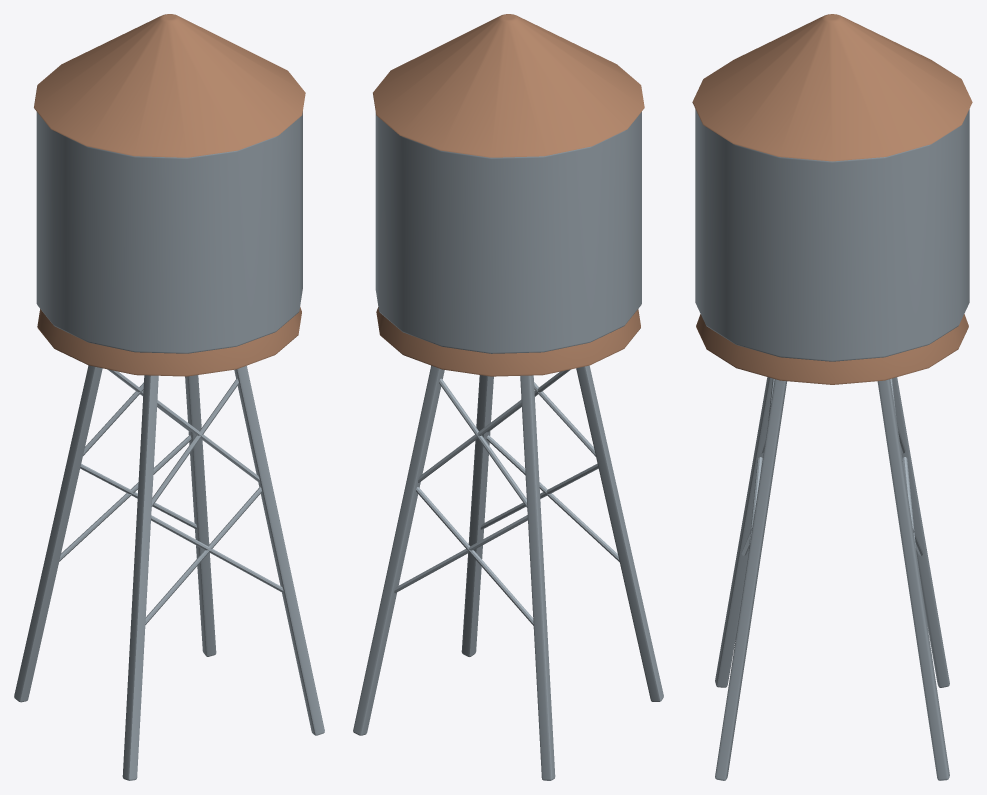
Rendered from water_tower.glb.
The picture shows the model from 3 angles, left to right: view 1: azimuth 30°, elevation 25°; view 2: azimuth 150°, elevation 25°; view 3: azimuth 270°, elevation 25°; orthographic projection. The views are drawn at different scales.
Visible parts, largest first — view 1: water_tower; view 2: water_tower; view 3: water_tower.
Part boxes in pixels (left/top/right/bottom): water_tower: left=14, top=14, right=324, bottom=780; water_tower: left=353, top=14, right=663, bottom=780; water_tower: left=692, top=14, right=972, bottom=780.
Bounding box in the file's own units: 3.27 × 9.21 × 3.27.
